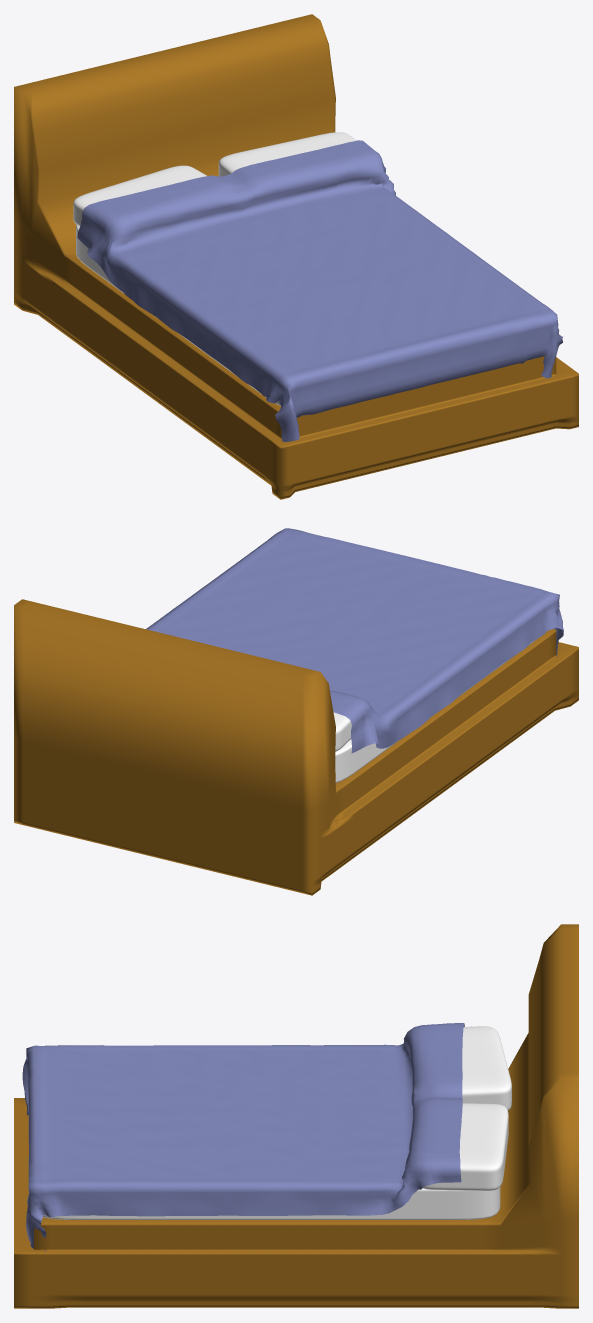
File: bed.glb
3 views of the same model, one above another, from view 1: azimuth 30°, elevation 25°; view 2: azimuth 150°, elevation 25°; view 3: azimuth 270°, elevation 25° (orthographic). The views are drawn at different scales.
Parts seen in each view (by area): view 1: Cube, Plane, Cube.003, Cube.002, Cube.001; view 2: Cube, Plane, Cube.001, Cube.002; view 3: Plane, Cube, Cube.001, Cube.003, Cube.002.
Boxes of the visible parts, x1,y1,x2,y2 form: Cube: (14,14,578,499); Plane: (77,140,562,441); Cube.003: (218,132,355,176); Cube.002: (73,165,206,226); Cube.001: (76,225,280,405); Cube: (14,599,578,895); Plane: (146,528,563,753); Cube.001: (335,638,537,782); Cube.002: (333,712,351,751); Plane: (22,1023,464,1251); Cube: (14,924,578,1308); Cube.001: (43,1187,500,1219); Cube.003: (422,1103,508,1190); Cube.002: (462,1026,511,1110).
Size of the model in its own units: 332 by 231 by 513.
